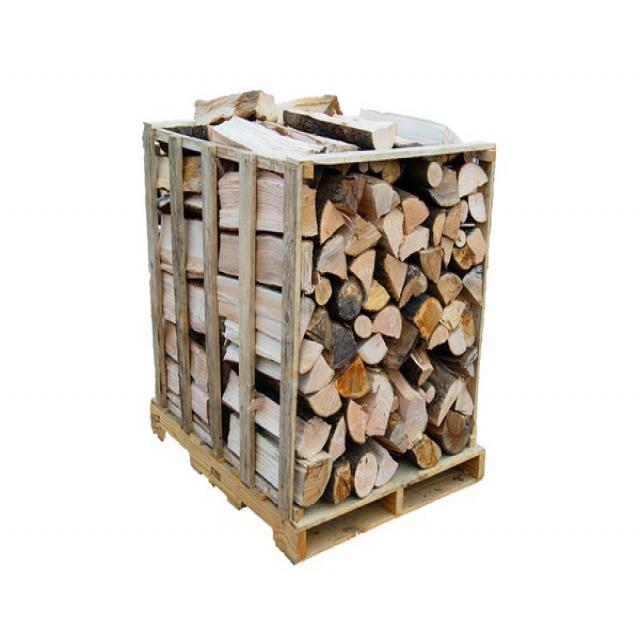Palette: (153, 394, 494, 572)
